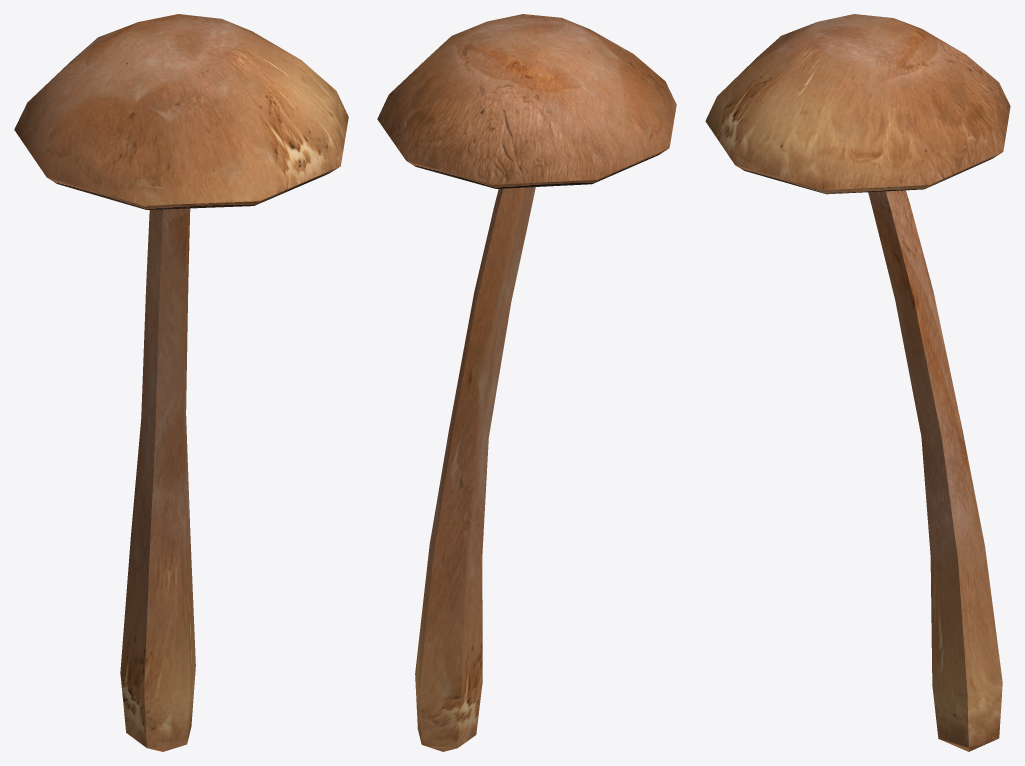
File: MushroomBrownBig_LOD1.obj
The picture shows the model from 3 angles, left to right: view 1: azimuth 30°, elevation 25°; view 2: azimuth 150°, elevation 25°; view 3: azimuth 270°, elevation 25°; orthographic projection. The views are drawn at different scales.
Visible parts, largest first — view 1: MushroomBrownBig_LOD1; view 2: MushroomBrownBig_LOD1; view 3: MushroomBrownBig_LOD1.
Part boxes in pixels (bbox=[...]): MushroomBrownBig_LOD1: bbox=[14, 14, 348, 751]; MushroomBrownBig_LOD1: bbox=[377, 14, 676, 751]; MushroomBrownBig_LOD1: bbox=[705, 14, 1010, 751].
Bounding box in the file's own units: 0.2426 × 0.6157 × 0.2418.
